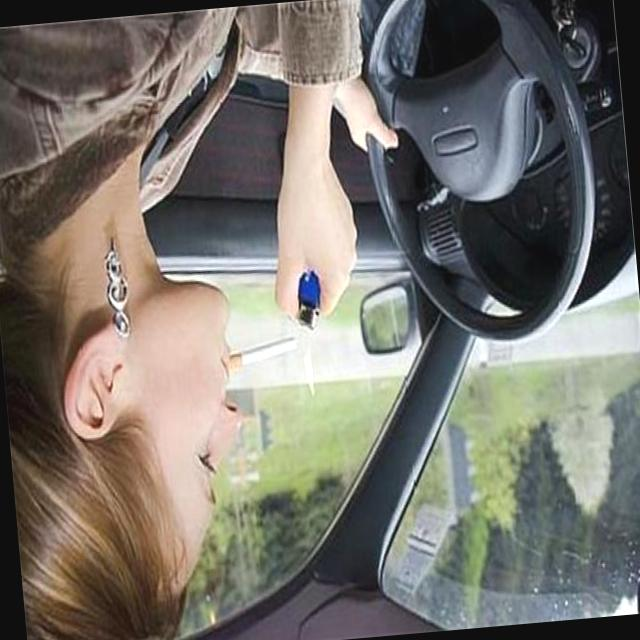cigarette: (198, 313, 306, 403)
